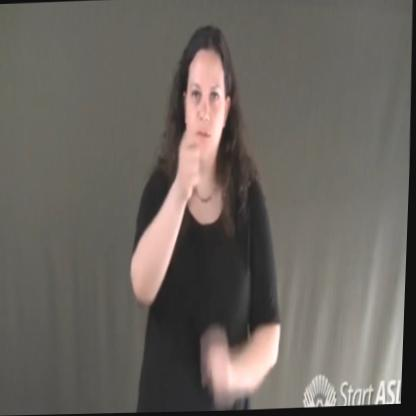NiceToMeetYou: (158, 107, 214, 215)
